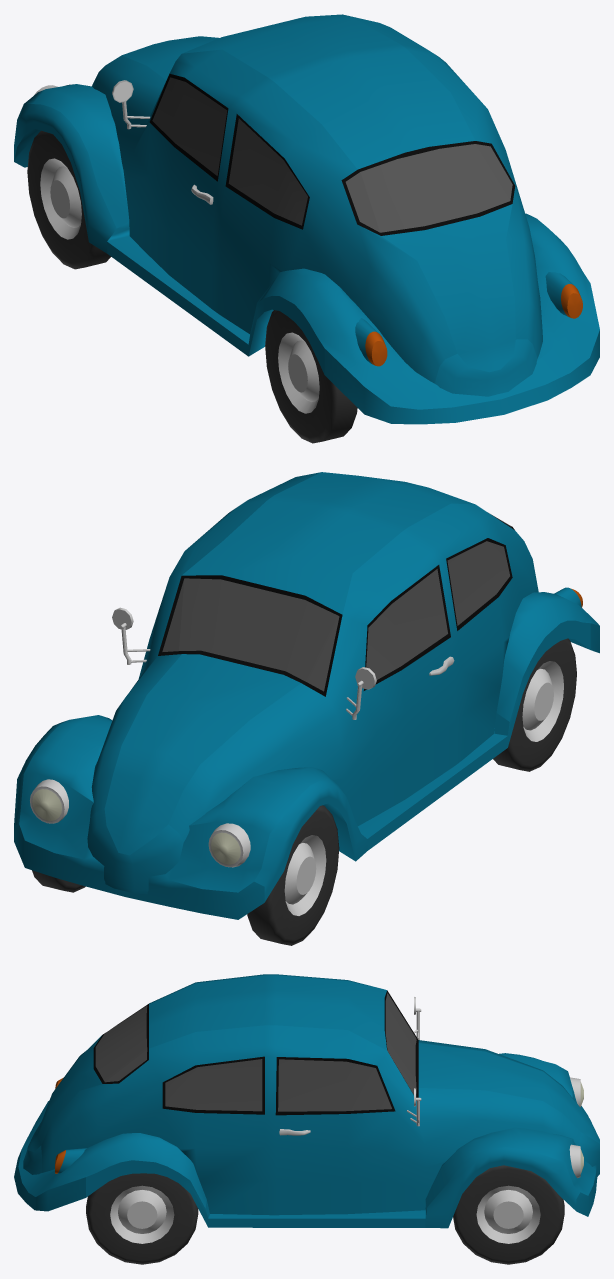
Rendered from BugModel.fbx.
The picture shows the model from 3 angles, top to bottom: view 1: azimuth 30°, elevation 25°; view 2: azimuth 150°, elevation 25°; view 3: azimuth 270°, elevation 25°; orthographic projection. The views are drawn at different scales.
Parts seen in each view (by area): view 1: TireFrameFront_pCylinder1; view 2: TireFrameFront_pCylinder1; view 3: TireFrameFront_pCylinder1.
Boxes of the visible parts, x1,y1,x2,y2 form: TireFrameFront_pCylinder1: [14, 14, 599, 443]; TireFrameFront_pCylinder1: [14, 472, 599, 945]; TireFrameFront_pCylinder1: [14, 974, 599, 1264].
Size of the model in its own units: 14.75 by 15.38 by 36.42.
